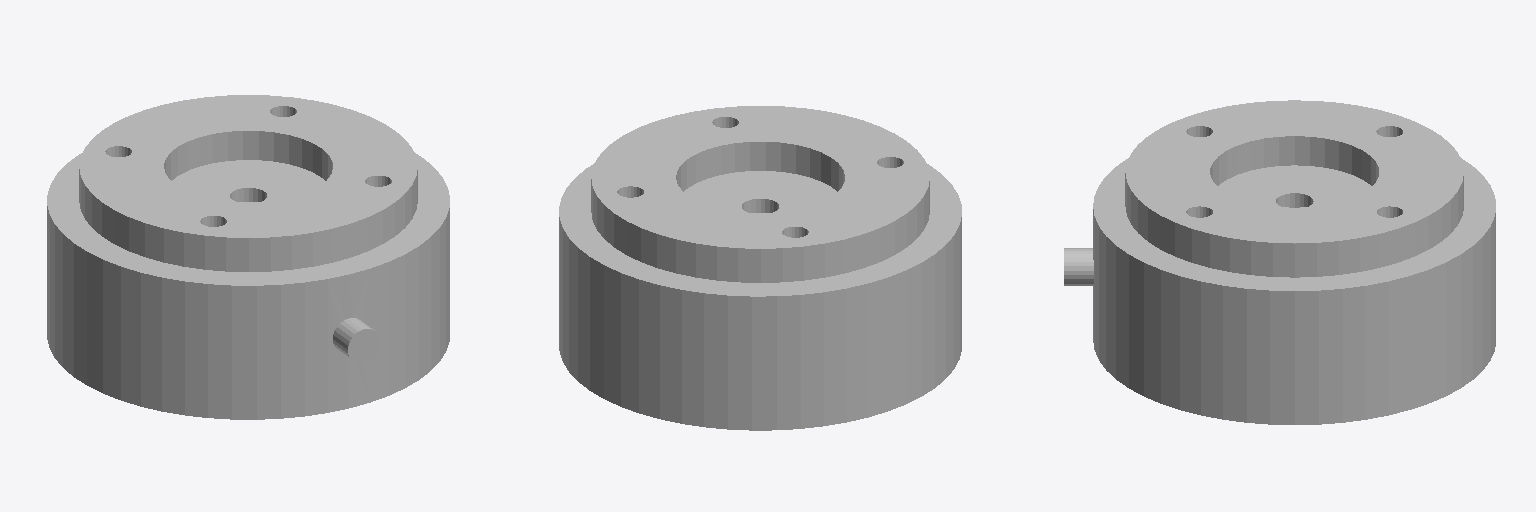
Rendered from wrist3.obj.
3 renders of one model, left to right at view 1: azimuth 30°, elevation 25°; view 2: azimuth 150°, elevation 25°; view 3: azimuth 270°, elevation 25°, orthographic.
Visible parts, largest first — view 1: Actor0_001_ActorShape0_0-Mesh.003; view 2: Actor0_001_ActorShape0_0-Mesh.003; view 3: Actor0_001_ActorShape0_0-Mesh.003.
Boxes of the visible parts, <box> form: Actor0_001_ActorShape0_0-Mesh.003: <box>47,95,449,419</box>; Actor0_001_ActorShape0_0-Mesh.003: <box>559,106,961,430</box>; Actor0_001_ActorShape0_0-Mesh.003: <box>1064,100,1495,424</box>.
Size of the model in its own units: 0.075 by 0.0345 by 0.0805.